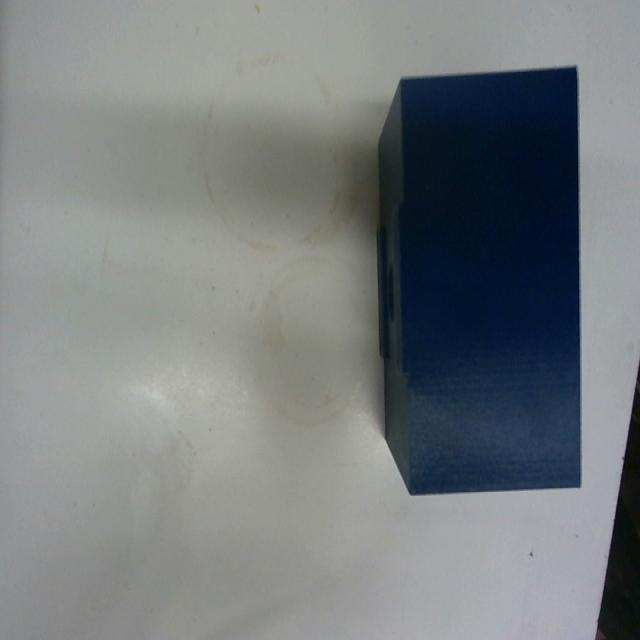Blue Cuboid: (374, 63, 583, 496)
